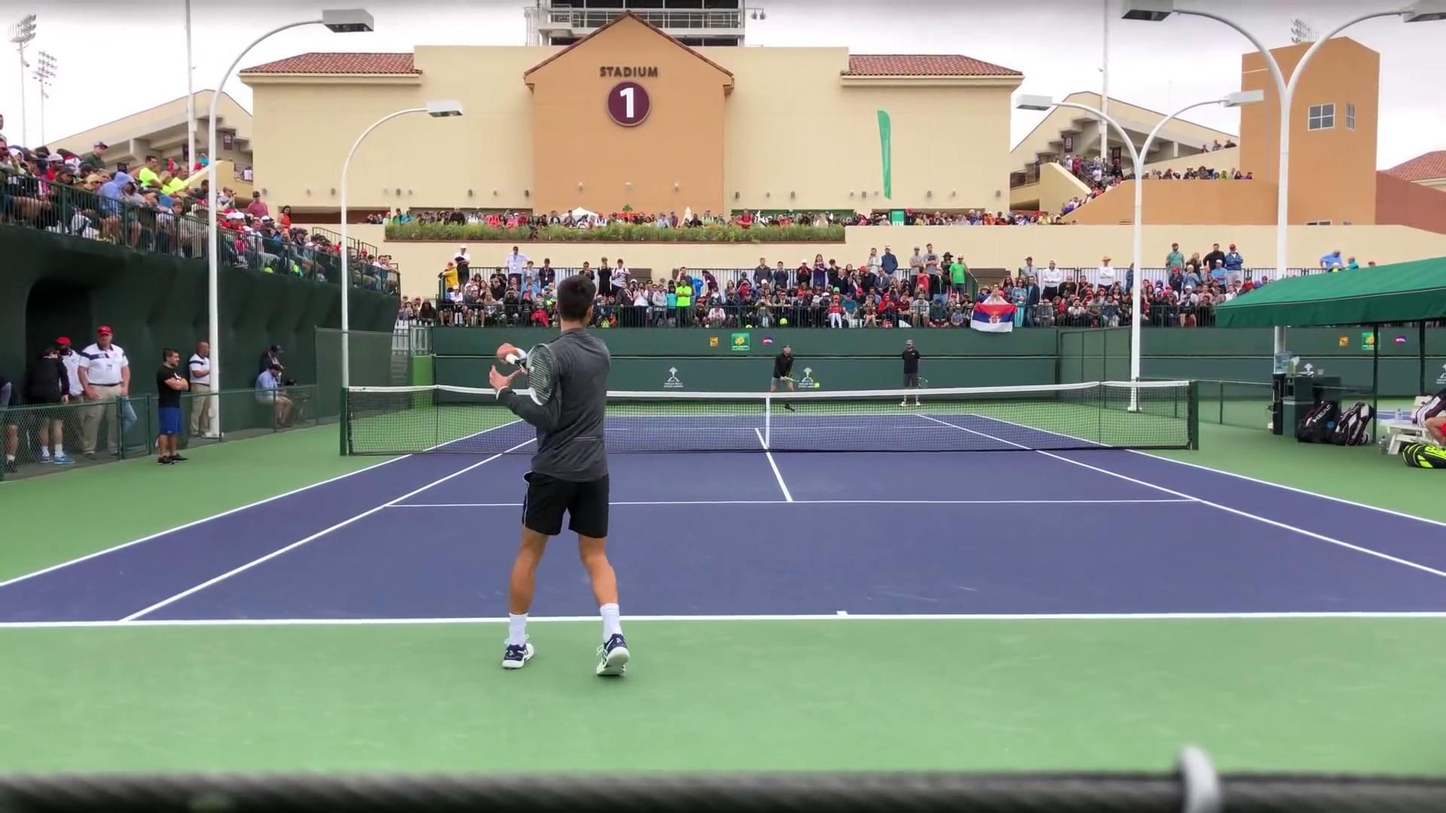ball: (814, 383, 821, 388)
